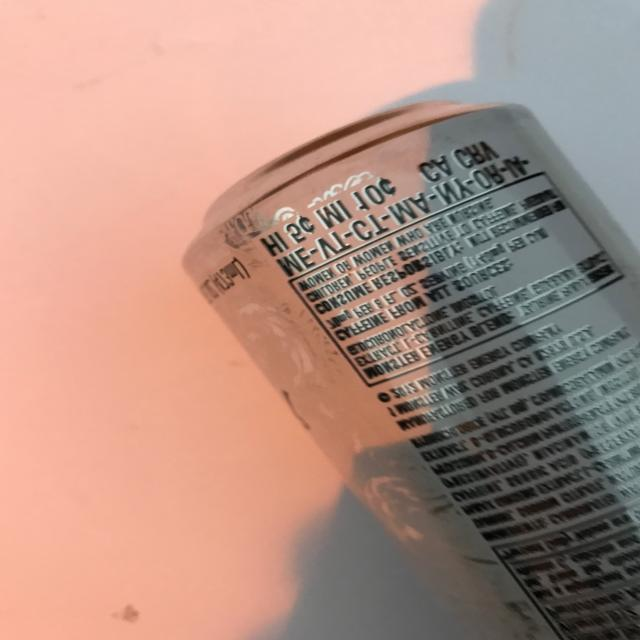metal: (180, 97, 640, 640)
